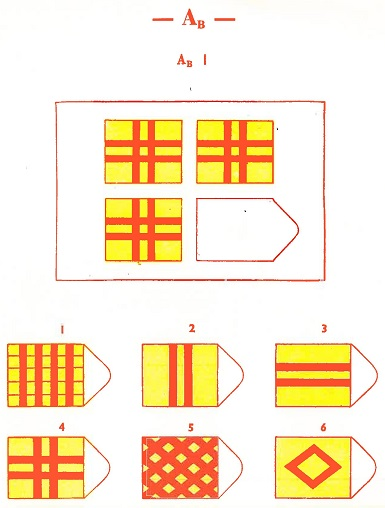Array 1: (3, 320, 115, 410)
Array 2: (136, 321, 248, 411)
Array 3: (272, 321, 381, 412)
Array 4: (4, 416, 114, 503)
Array 5: (138, 416, 248, 502)
Array 6: (271, 417, 379, 502)
Matrix 1: (100, 115, 185, 188)
Matrix 2: (192, 116, 278, 189)
Matrix 3: (102, 194, 186, 265)
Matrix Unknown: (193, 195, 301, 264)
